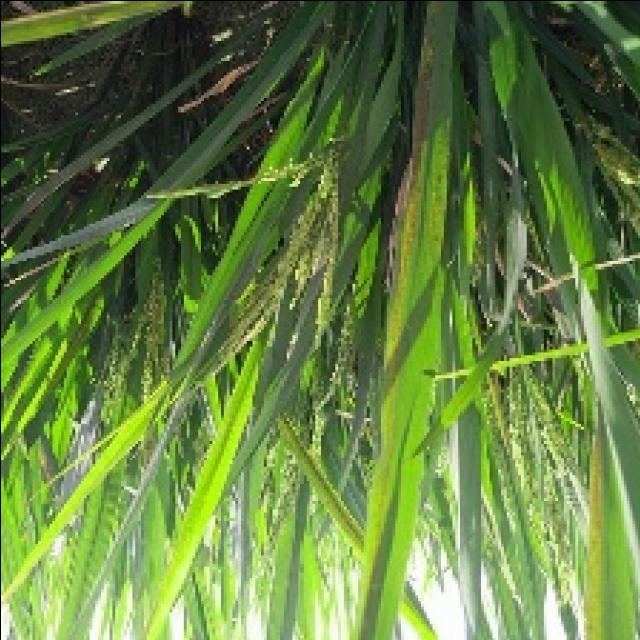Unhealthy: (358, 0, 435, 640), (584, 417, 603, 640), (0, 0, 135, 25)
